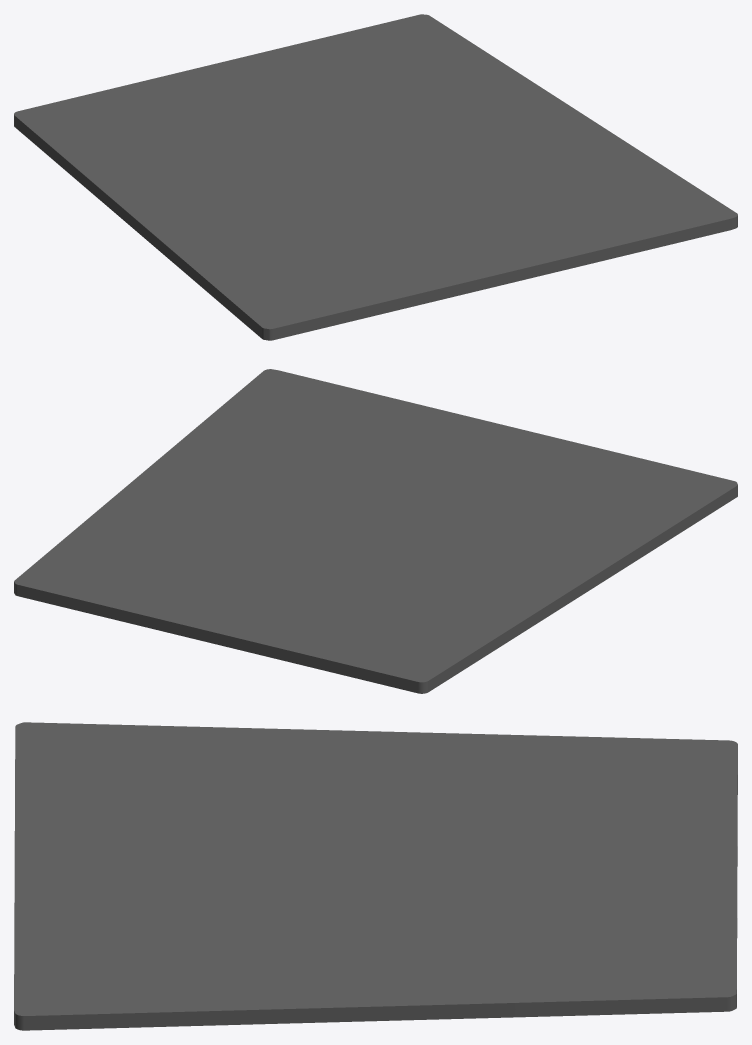
The model's file is RoboTHOR_chair_antnas_robothor_chair_antnas_1.obj.
The picture shows the model from 3 angles, top to bottom: view 1: azimuth 30°, elevation 25°; view 2: azimuth 150°, elevation 25°; view 3: azimuth 270°, elevation 25°; orthographic projection. The views are drawn at different scales.
Bounding box in the file's own units: 0.432 × 0.0116 × 0.4519.
Materials: 1 (1 with a texture image).
